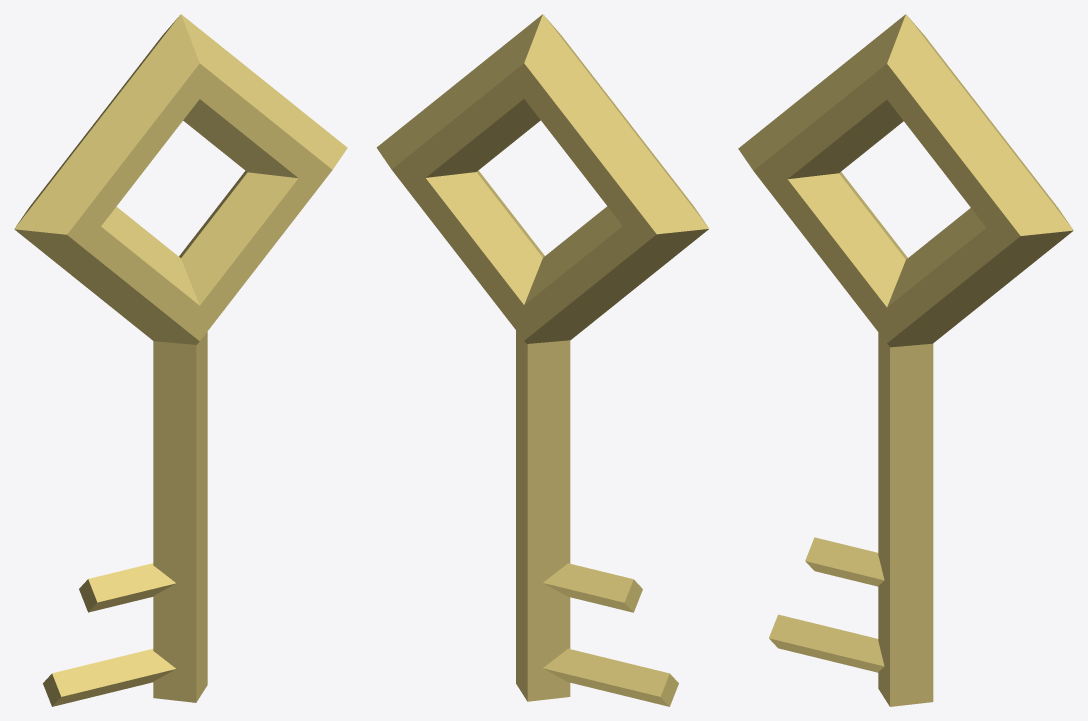
The model's file is sleutel.fbx.
3 renders of one model, left to right at view 1: azimuth 30°, elevation 25°; view 2: azimuth 150°, elevation 25°; view 3: azimuth 330°, elevation 25°, orthographic.
Parts seen in each view (by area): view 1: key; view 2: key; view 3: key.
Part boxes in pixels (x1,y1,x2,y2): key: [14, 14, 347, 706]; key: [376, 14, 709, 706]; key: [738, 14, 1073, 706].
Size of the model in its own units: 212 by 412 by 41.54.
